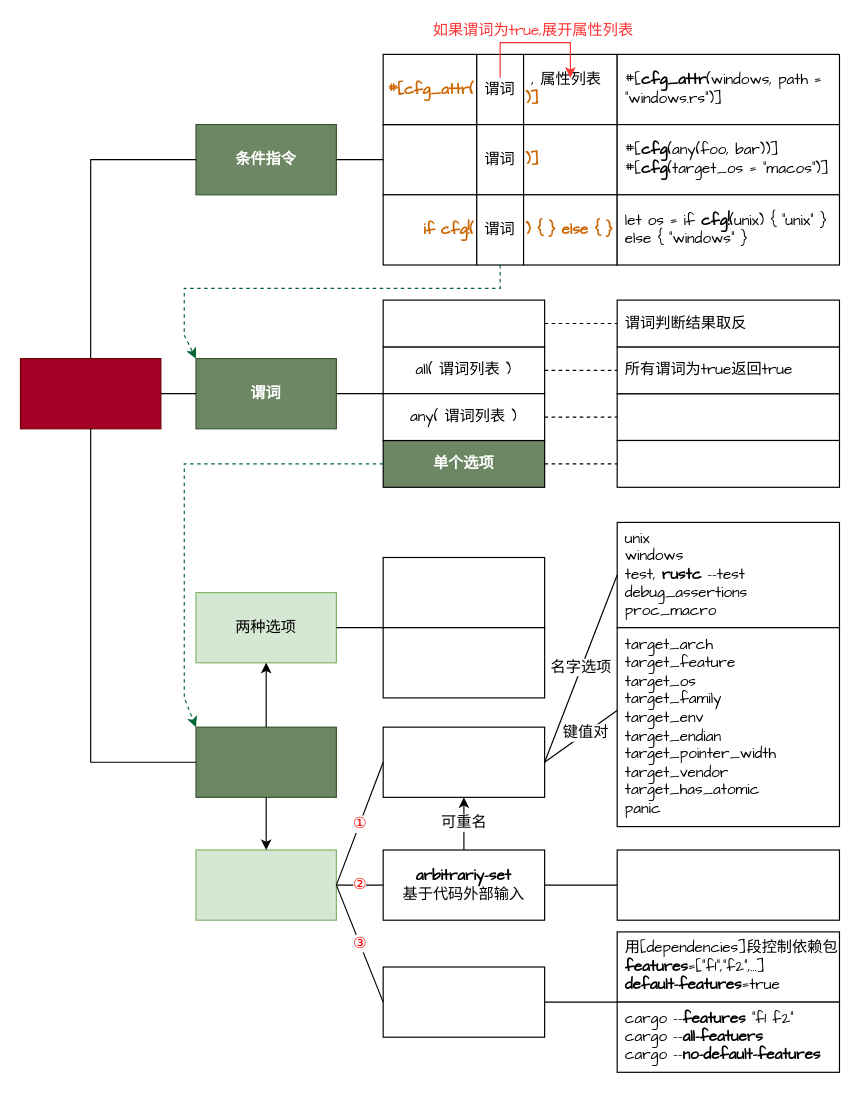
This 860x1093 diagram has some shape labels left out. The centre of each missing label's shape, as x and y in pixels:
#[cfg(: point (429, 159)
compile-set 基于编译相关信息: point (463, 761)
feature 指定编译选项和可选依赖: point (463, 1001)
not( 单个谓词 ): point (463, 323)
rustc --cfg “unix" rustc --cfg ' feature ="serde"': point (727, 884)
三种输入: point (265, 884)
任一谓词为true返回true: point (727, 417)
名字选项 如 "unix","windows": point (463, 592)
条件编译 cfg: point (90, 393)
选项: point (265, 761)
选项已设置则返回true: point (727, 463)
键值对选项 key="value": point (463, 662)
